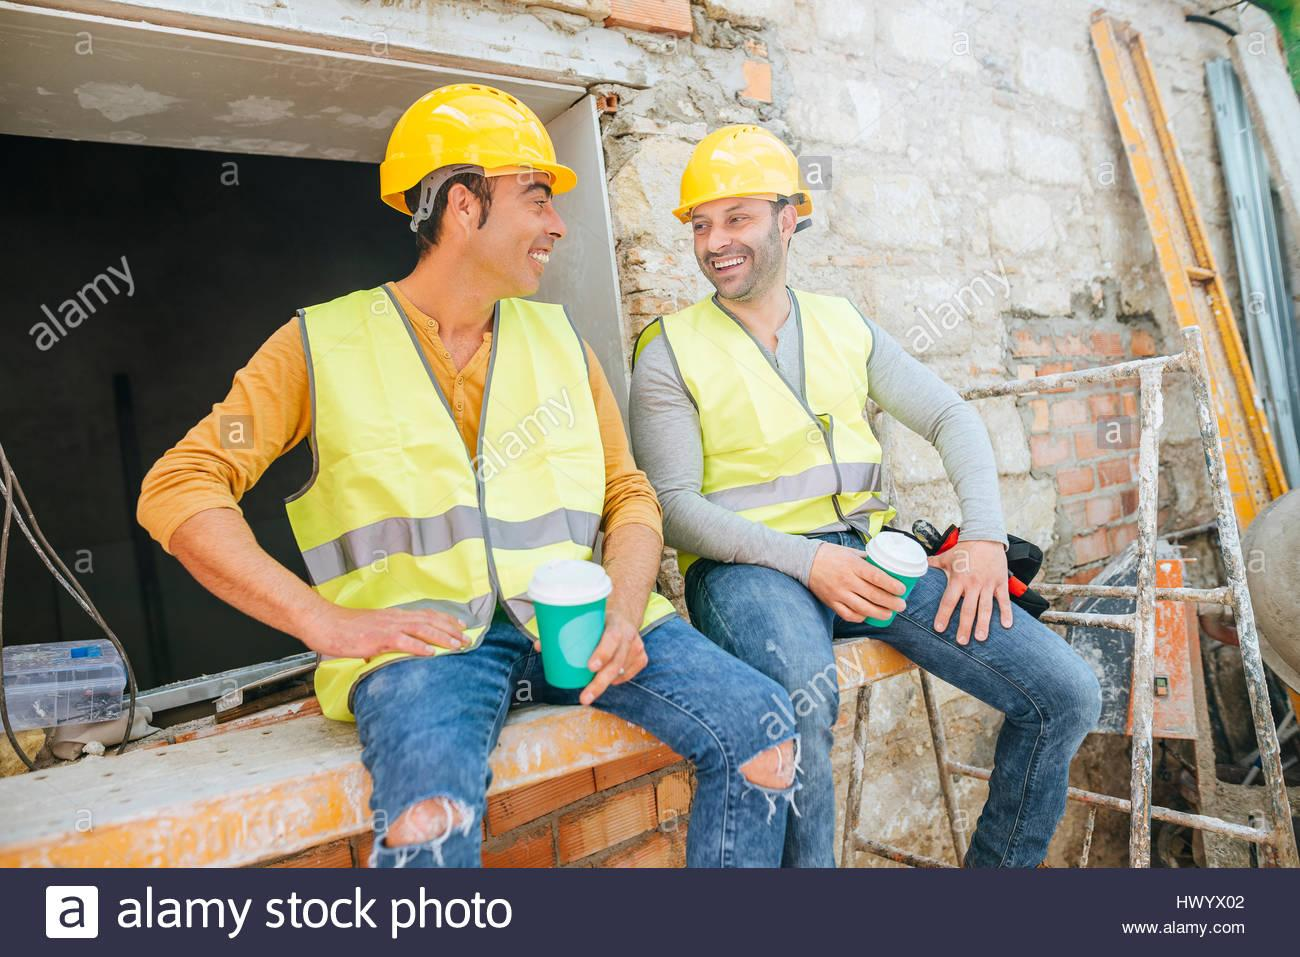helmet: (384, 85, 577, 205), (670, 121, 814, 227)
